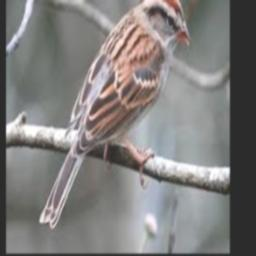Sparrow: (39, 0, 192, 230)
